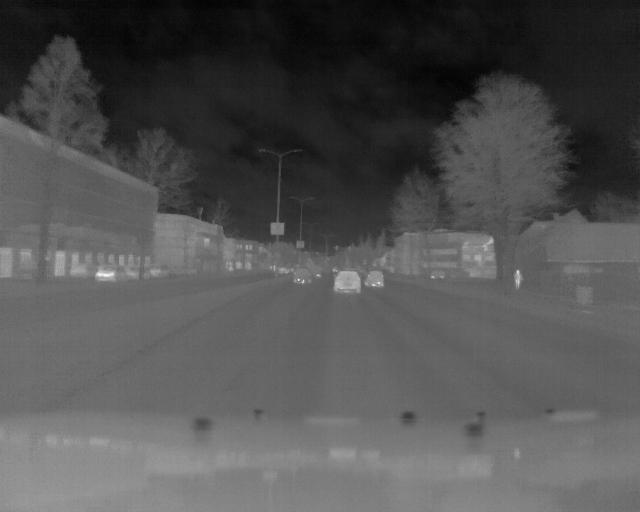car: (332, 268, 364, 298), (96, 260, 123, 287), (367, 269, 386, 289)
person: (512, 267, 522, 291)
